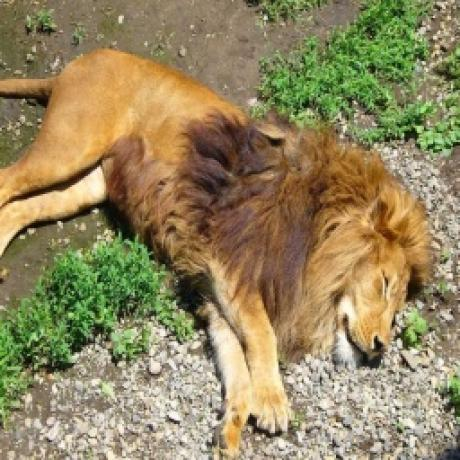Lion: (0, 41, 435, 460)
